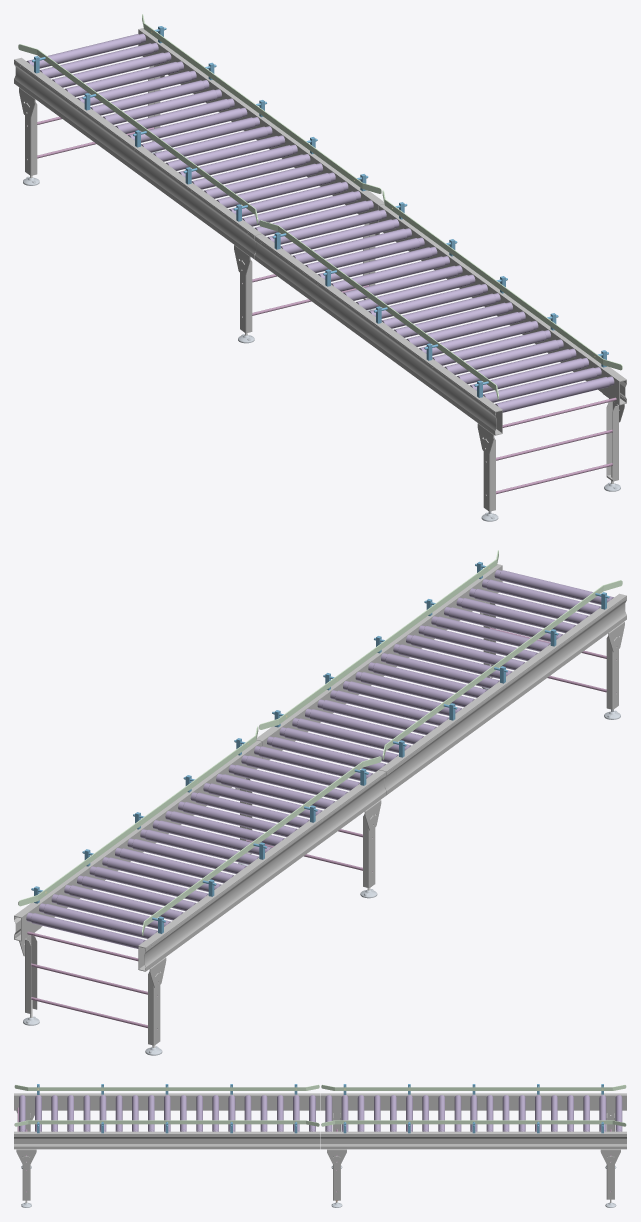
File: Roller conveyor.fbx
3 views of the same model, one above another, from view 1: azimuth 30°, elevation 25°; view 2: azimuth 150°, elevation 25°; view 3: azimuth 270°, elevation 25° (orthographic). The views are drawn at different scales.
Visible parts, largest first — view 1: Rollers.001, Rollers, Side.002, Side.001, Side.003, Side, Guard.001, Guard.002, Guard.003, Guard, Bars.003, Leg.002 (+3 smaller); view 2: Rollers, Rollers.001, Side.001, Side.002, Side, Side.003, Guard.002, Guard.001, Guard, Guard.003, Leg.004, Leg.001 (+3 smaller); view 3: Side, Side.003, Rollers, Rollers.001, Side.001, Side.002, Guard, Guard.003, Guard.001, Guard.002, Leg.005, Leg.003 (+1 smaller).
Part boxes in pixels (x1,y1,x2,y2): Rollers.001: (267, 209, 614, 412); Rollers: (26, 33, 373, 235); Side.002: (254, 234, 502, 435); Side.001: (14, 57, 261, 259); Side.003: (379, 204, 626, 405); Side: (138, 28, 384, 223); Guard.001: (18, 44, 258, 223); Guard.002: (259, 220, 498, 399); Guard.003: (382, 190, 622, 370); Guard: (142, 14, 381, 193); Bars.003: (486, 397, 616, 494); Leg.002: (19, 87, 39, 185); Rollers: (26, 746, 373, 948); Rollers.001: (267, 569, 613, 771); Side.001: (138, 770, 386, 971); Side.002: (379, 593, 626, 795); Side: (14, 740, 261, 941); Side.003: (256, 564, 502, 759); Guard.002: (382, 580, 622, 759); Guard.001: (142, 756, 381, 935); Guard: (18, 726, 258, 906); Guard.003: (259, 550, 498, 729); Leg.004: (604, 621, 624, 719); Leg.001: (360, 800, 381, 898); Side: (320, 1131, 626, 1149); Side.003: (14, 1131, 320, 1149); Rollers: (325, 1095, 622, 1131); Rollers.001: (19, 1095, 315, 1131); Side.001: (320, 1093, 626, 1110); Side.002: (14, 1093, 320, 1110); Guard: (321, 1120, 626, 1133); Guard.003: (14, 1120, 319, 1133); Guard.001: (321, 1084, 626, 1094); Guard.002: (14, 1084, 319, 1094); Leg.005: (16, 1149, 36, 1207); Leg.003: (600, 1149, 620, 1207).
Size of the model in its own units: 75.1 by 68.06 by 457.
